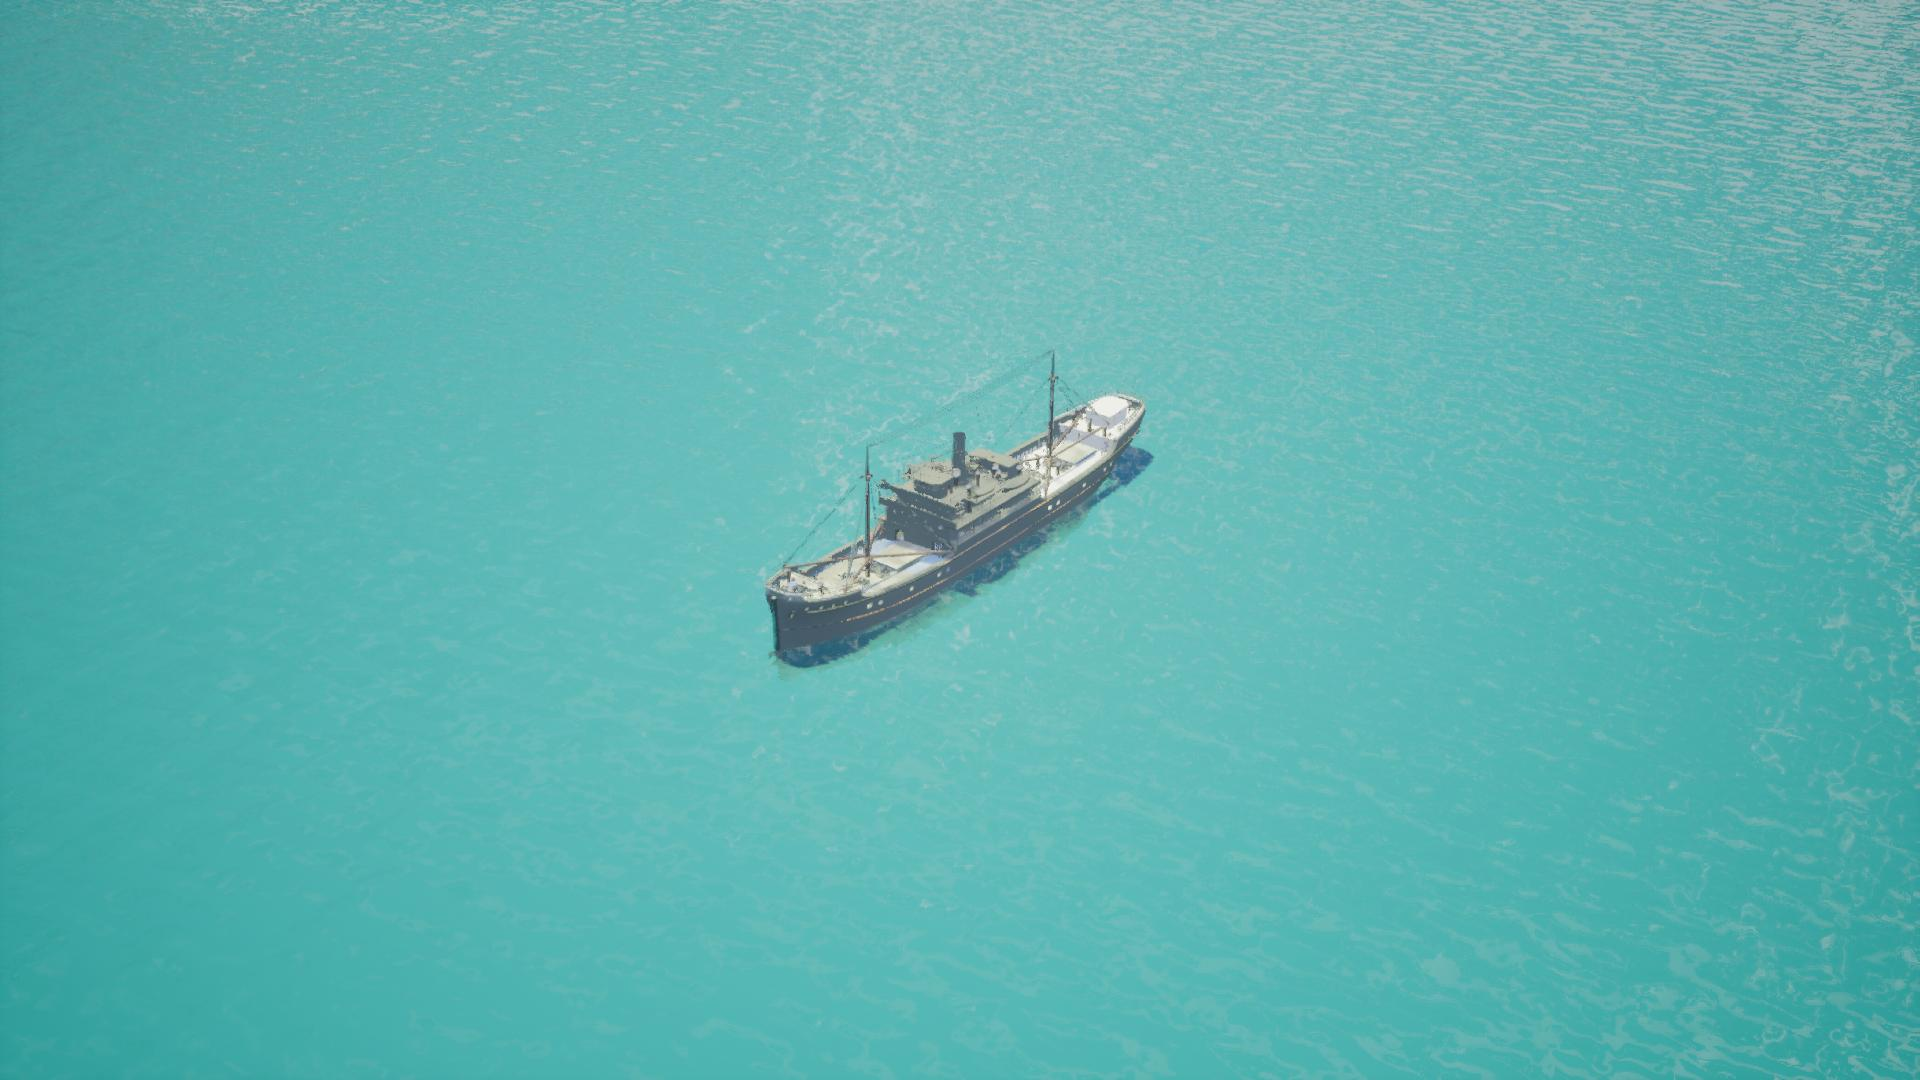Fishing Boat: (761, 393, 1156, 666)
